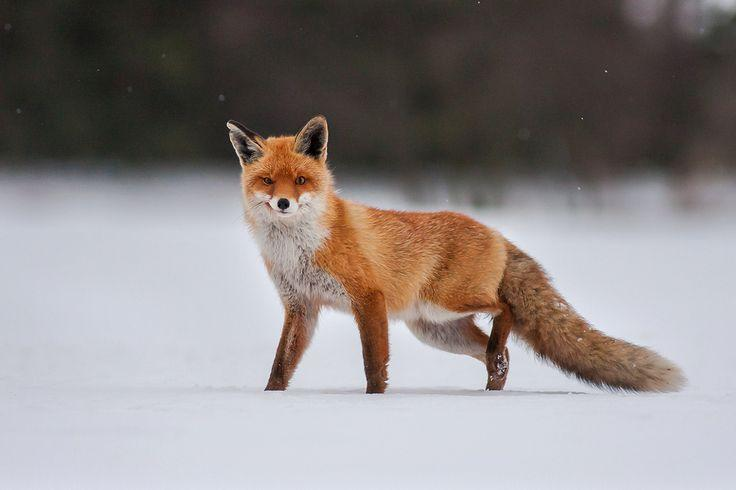fox: (221, 116, 692, 399)
